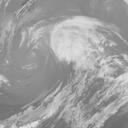cyclone: (50, 15, 104, 68)
